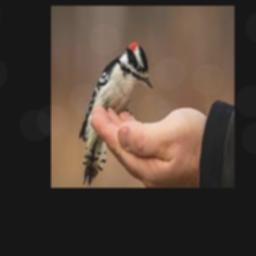Woodpecker: (79, 41, 153, 187)
